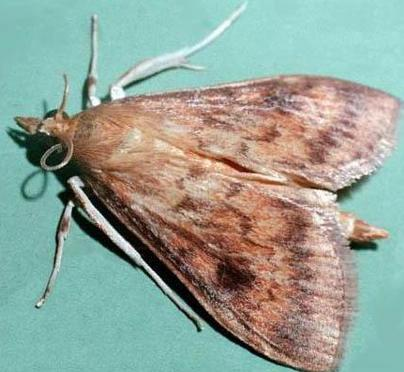pest: (4, 44, 402, 372)
